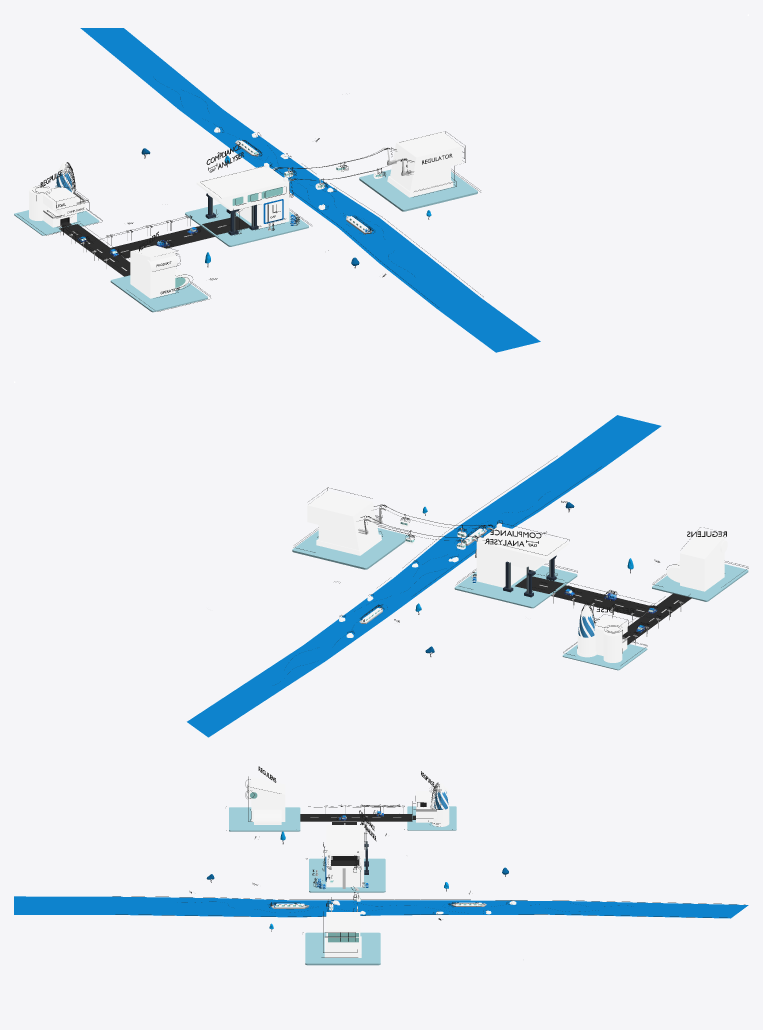
Rendered from optimise1.glb.
The picture shows the model from 3 angles, top to bottom: view 1: azimuth 30°, elevation 25°; view 2: azimuth 150°, elevation 25°; view 3: azimuth 270°, elevation 25°; orthographic projection. The views are drawn at different scales.
Parts seen in each view (by area): view 1: Plane.006, Cube.002, Cube.001, GP_Layer.001, Plane.009, Cube, Plane.008, Plane.007, Plane.005, Plane.001, Plane, Cube.074; view 2: Plane.006, Cube.001, Cube.002, Cube, GP_Layer.001, Plane.009, Plane.008, Plane.001, Plane.007, Plane.005, Plane, Cylinder.005; view 3: Plane.006, Cube.001, GP_Layer.001, Cube.002, Plane.009, Plane.008, Plane.007, Cube, Plane.005, Plane, Cylinder.010.
Boxes of the visible parts, x1,y1,x2,y2 form: Plane.006: (80, 28, 540, 352); Cube.002: (387, 131, 462, 197); Cube.001: (196, 166, 289, 228); GP_Layer.001: (17, 127, 483, 311); Plane.009: (359, 169, 477, 211); Cube: (130, 245, 175, 298); Plane.008: (185, 204, 308, 246); Plane.007: (110, 275, 207, 312); Plane.005: (59, 224, 130, 276); Plane.001: (111, 226, 214, 258); Plane: (14, 210, 99, 235); Cube.074: (43, 187, 76, 210); Plane.006: (187, 415, 661, 737); Cube.001: (476, 526, 568, 587); Cube.002: (307, 490, 381, 555); Cube: (680, 530, 724, 591); GP_Layer.001: (293, 456, 748, 665); Plane.009: (292, 528, 409, 569); Plane.008: (454, 565, 577, 608); Plane.001: (551, 585, 653, 617); Plane.007: (652, 564, 748, 601); Plane.005: (622, 593, 691, 644); Plane: (562, 644, 647, 670); Cylinder.005: (603, 628, 622, 662); Plane.006: (14, 896, 748, 918); Cube.001: (326, 825, 363, 887); GP_Layer.001: (112, 776, 745, 957); Cube.002: (324, 912, 361, 957); Plane.009: (305, 932, 380, 965); Plane.008: (309, 858, 385, 892); Plane.007: (229, 807, 300, 831); Cube: (251, 777, 285, 821); Plane.005: (300, 814, 411, 821); Plane: (407, 806, 456, 830); Cylinder.010: (254, 809, 281, 824).
Bounding box in the file's own units: 8.73 × 1.08 × 9.81.
